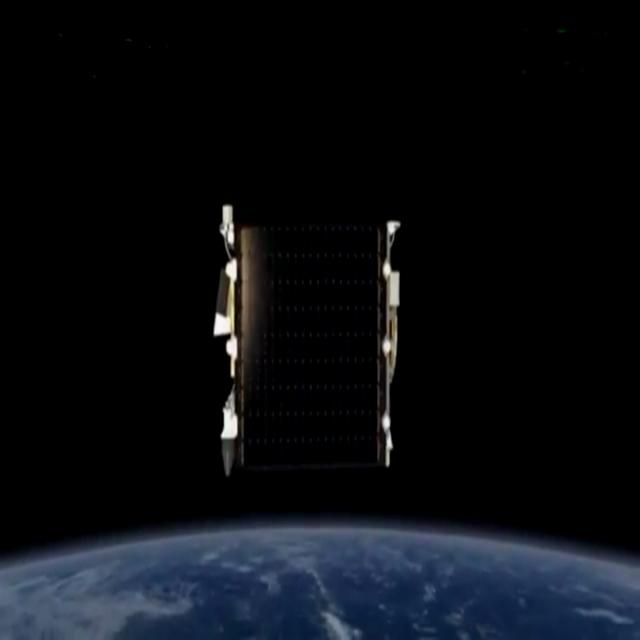medium_debris: (206, 178, 416, 492)
